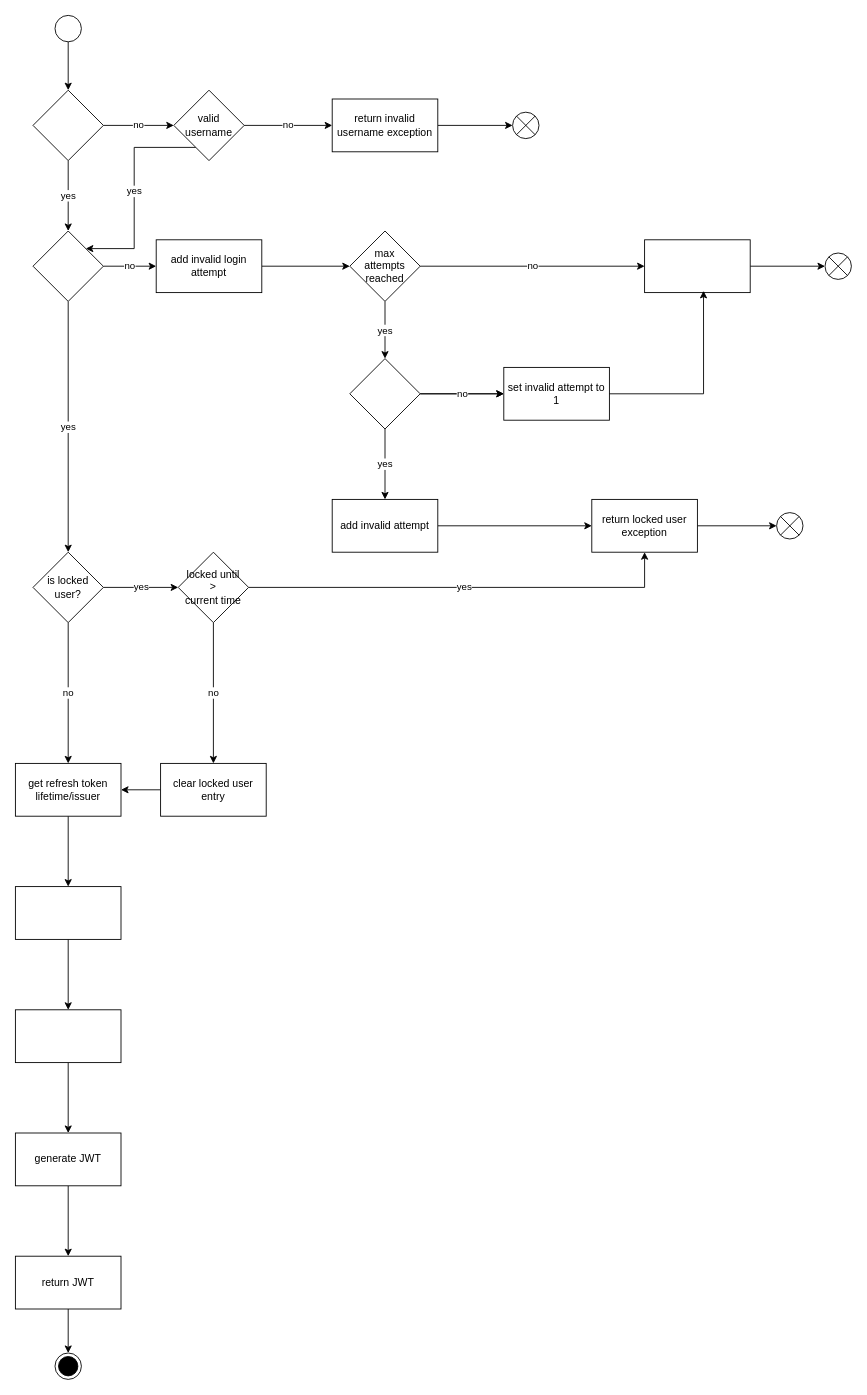
Image size: 867x1395. Some labels were removed from this diagram. The shapes that lost their labels are listed below. From the top down, each one's centre as x and y in pixels, then its label:
(x=67, y=125): valid email
(x=67, y=265): valid password
(x=697, y=266): return invalid password exception
(x=384, y=393): last invalid attempt < current time
(x=68, y=912): get token lifetime/issuer
(x=68, y=1036): get valid user roles
